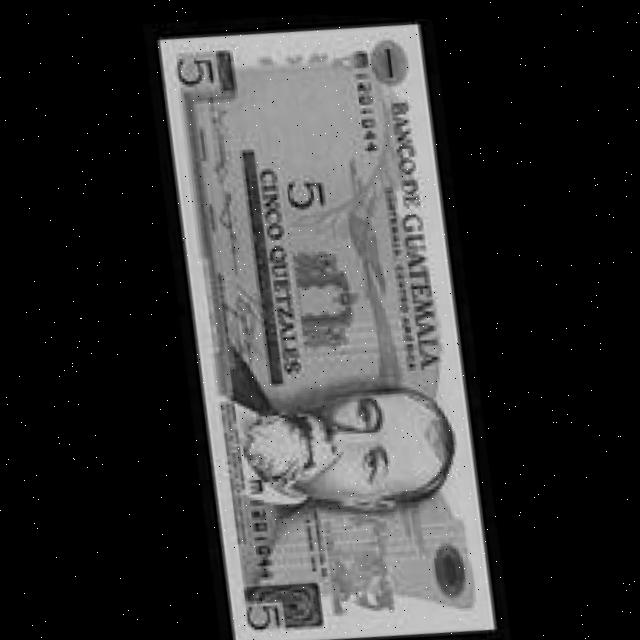banknote: (150, 5, 506, 640)
